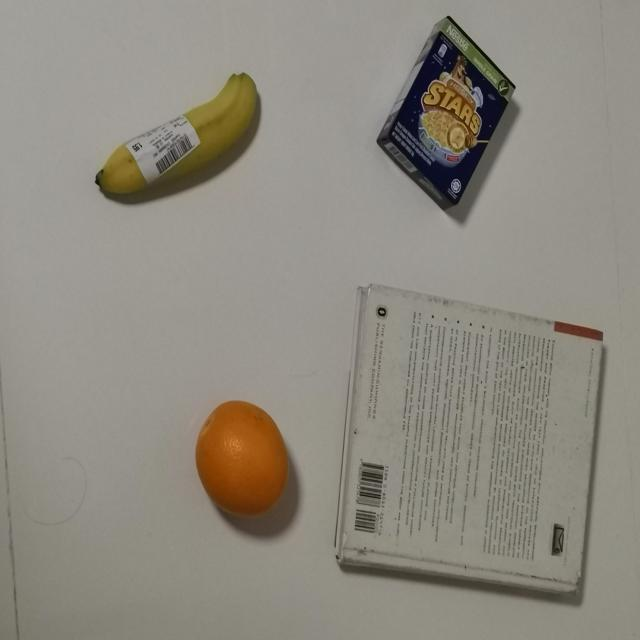Banana: (88, 70, 274, 197)
Book: (336, 266, 604, 612)
Cerealbox: (376, 18, 520, 218)
Orange: (189, 391, 297, 522)
